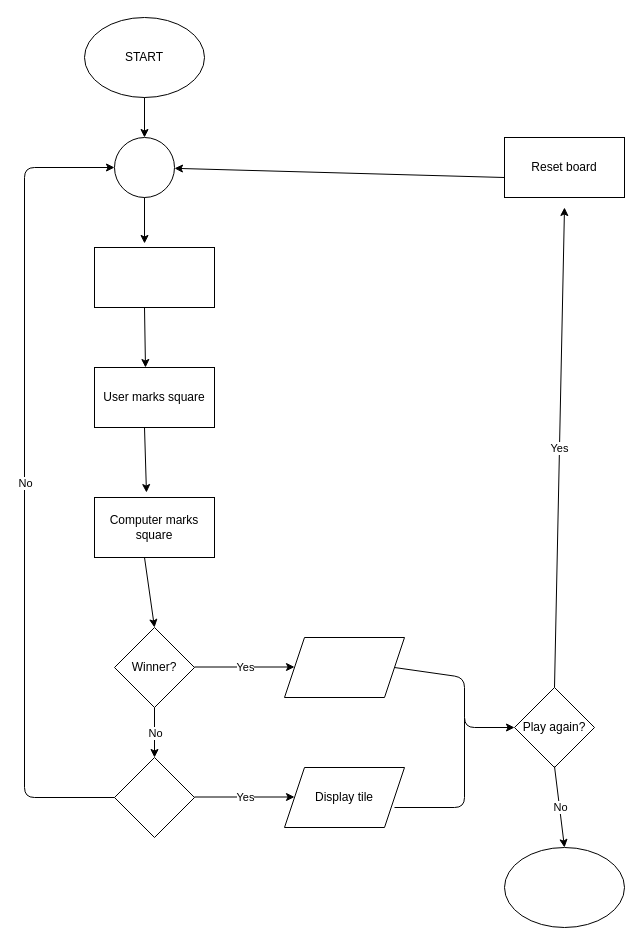
The diagram is 642 pixels wide and 945 high, and some of its shapes have lost their labels. Each missing label, with the box of its shape:
Board full?: (114, 756, 194, 838)
Display Board: (94, 246, 214, 308)
Display winner: (284, 636, 404, 698)
STOP: (504, 846, 624, 928)
